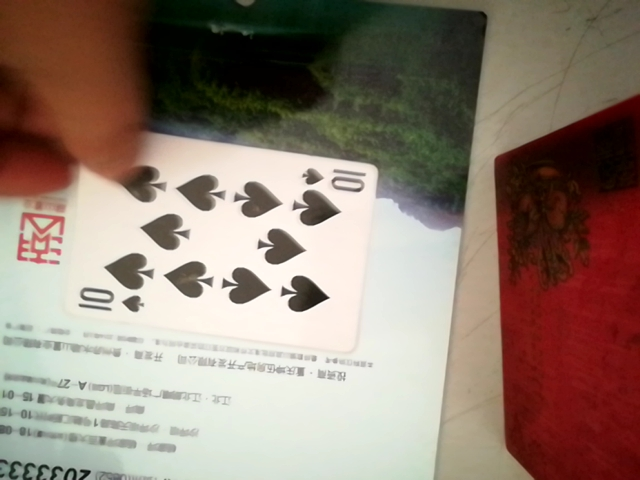ht 10: (52, 142, 376, 346)
